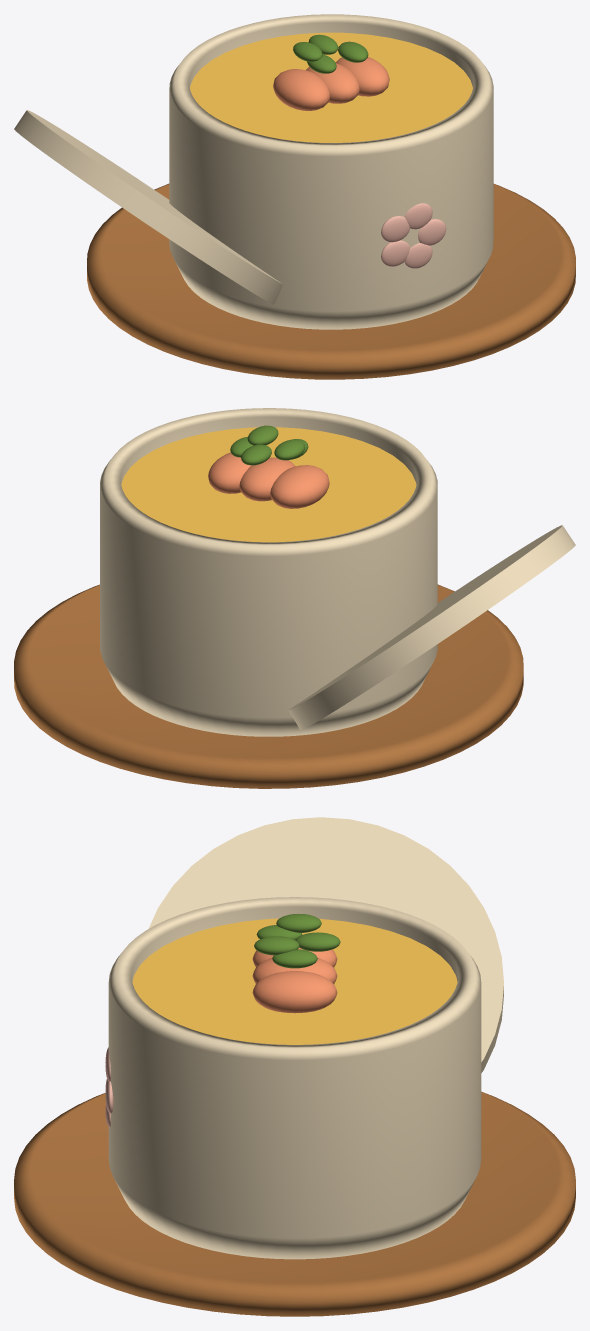
The model's file is 28-shrimp-custard.glb.
3 views of the same model, one above another, from view 1: azimuth 30°, elevation 25°; view 2: azimuth 150°, elevation 25°; view 3: azimuth 270°, elevation 25° (orthographic). The views are drawn at different scales.
Visible parts, largest first — view 1: 새우 계란찜; view 2: 새우 계란찜; view 3: 새우 계란찜.
Part boxes in pixels (x1,y1,x2,y2): 새우 계란찜: (14, 14, 575, 379); 새우 계란찜: (14, 408, 575, 788); 새우 계란찜: (14, 817, 575, 1316).
Bounding box in the file's own units: 1.99 × 0.971 × 1.72.
